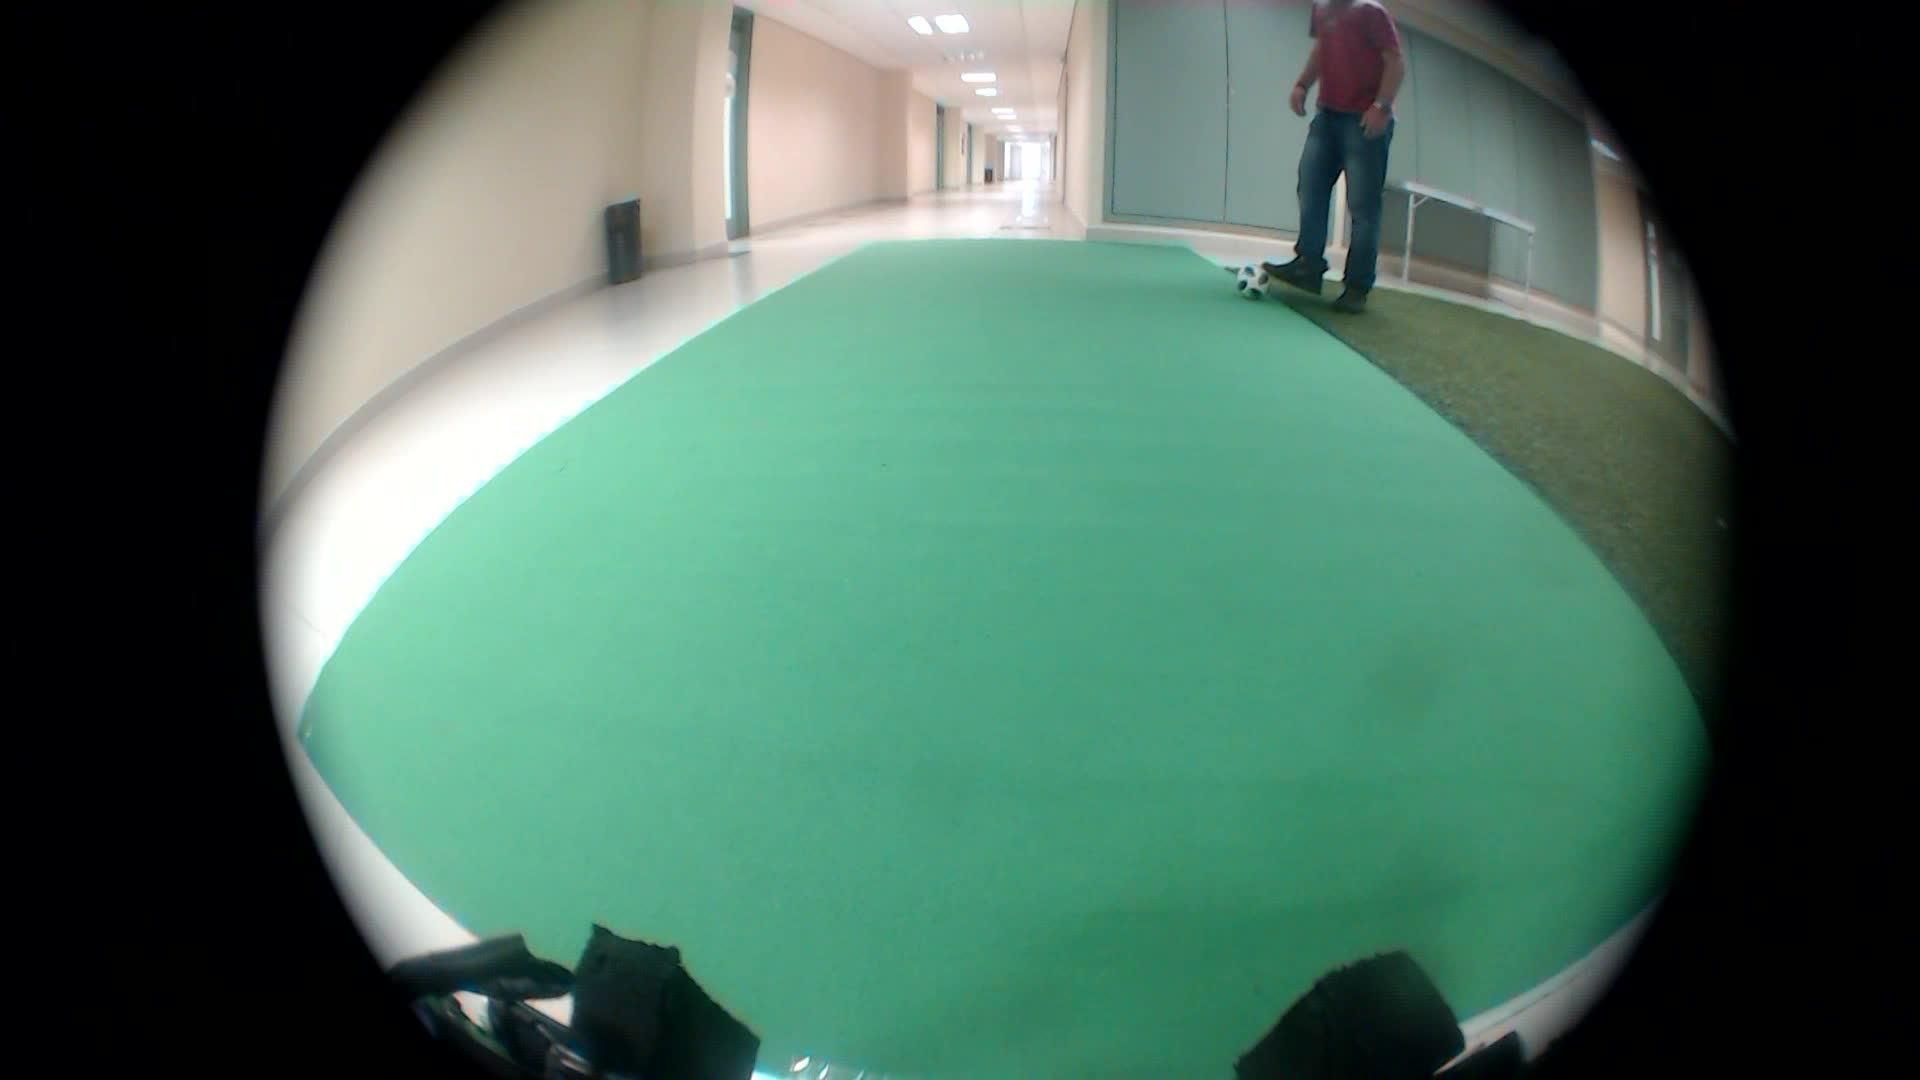ball: (1220, 256, 1263, 309)
